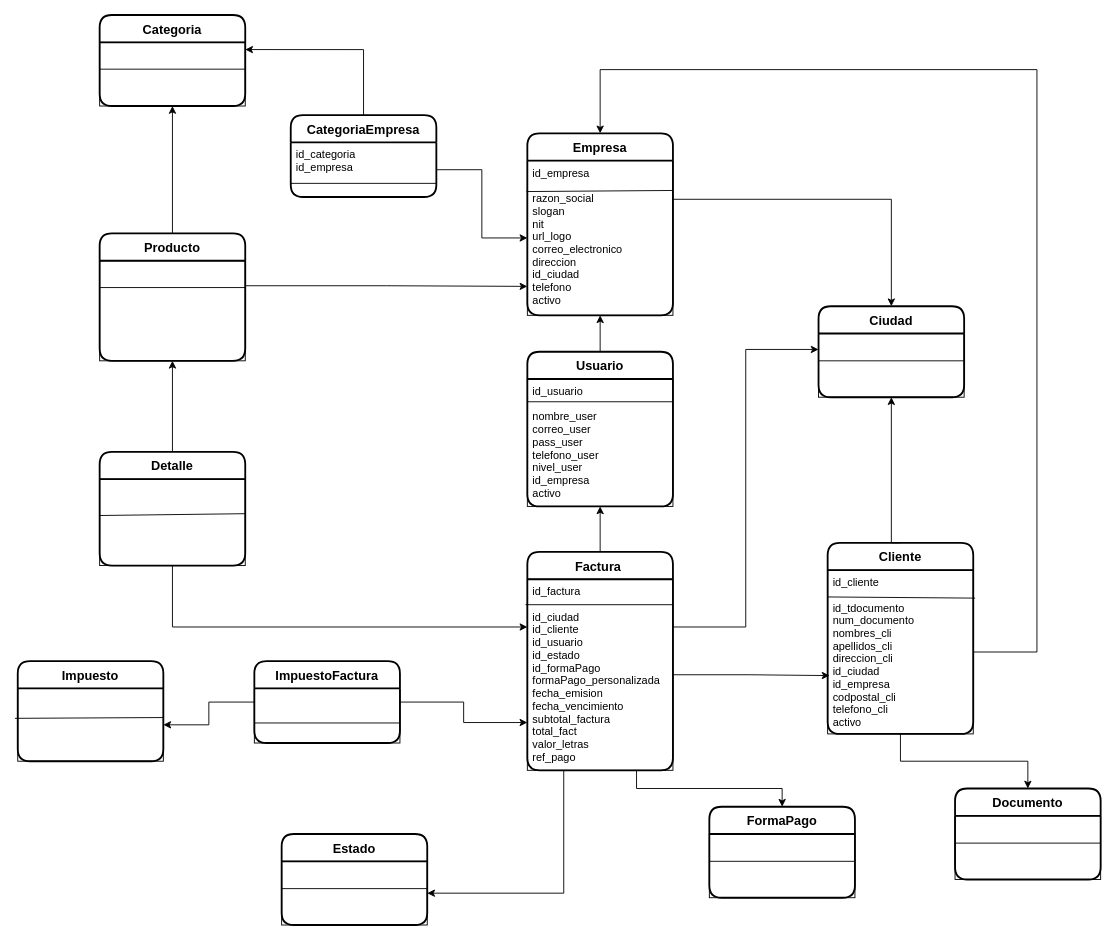
Image size: 1116x940. Some labels were removed from this diagram. Each missing label, with the centre of its shape:
"id_categoria nombre_ categoria activo" belongs at point 172,73.
"id_ciudad nombre_ciudad activo" belongs at point 891,365.
"id_estado nombre_estado activo" belongs at point 354,892.
"id_factura id_producto cantidad valor_unitario valor_total" belongs at point 172,522.
"id_formaPago nombre_formaPago activo" belongs at point 781,865.
"id_impuesto id_factura" belongs at point 326,715.
"id_impuesto nombre_impuesto porc_impuesto activo" belongs at point 90,724.
"id_producto nombre_producto valor_producto id_categoria id_empresa activo" belongs at point 172,310.
"id_tdocumento nombre_tdocumento activo" belongs at point 1027,847.
